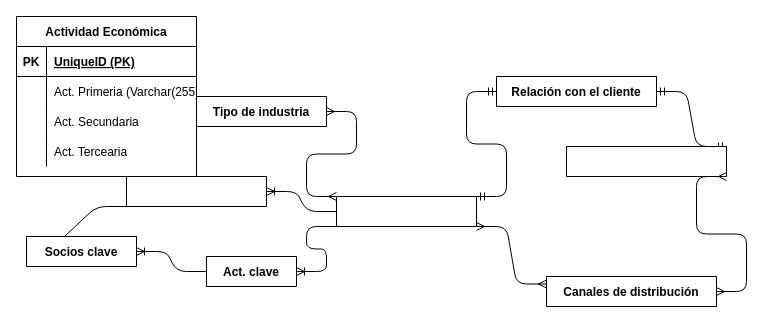
The diagram is 763 pixels wide and 323 high, and some of its shapes have lost their labels. Here are the shapes that lost their labels. From the top down, the box of each, then its label:
(566, 146, 726, 176): Segmento de clientes
(126, 176, 266, 206): Herramienta clave
(336, 196, 476, 226): Propuesta de valor
